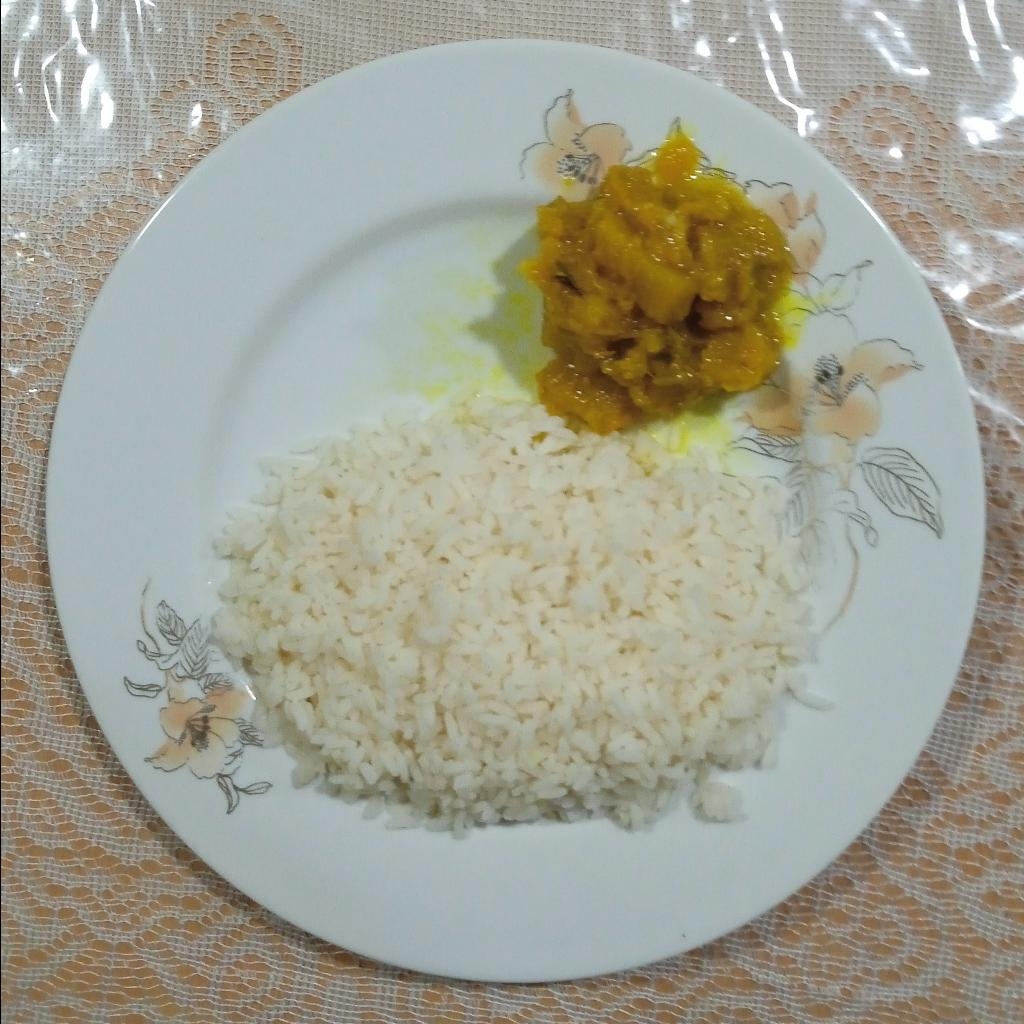lal-shak: (518, 166, 789, 429)
rice: (208, 398, 824, 839)
